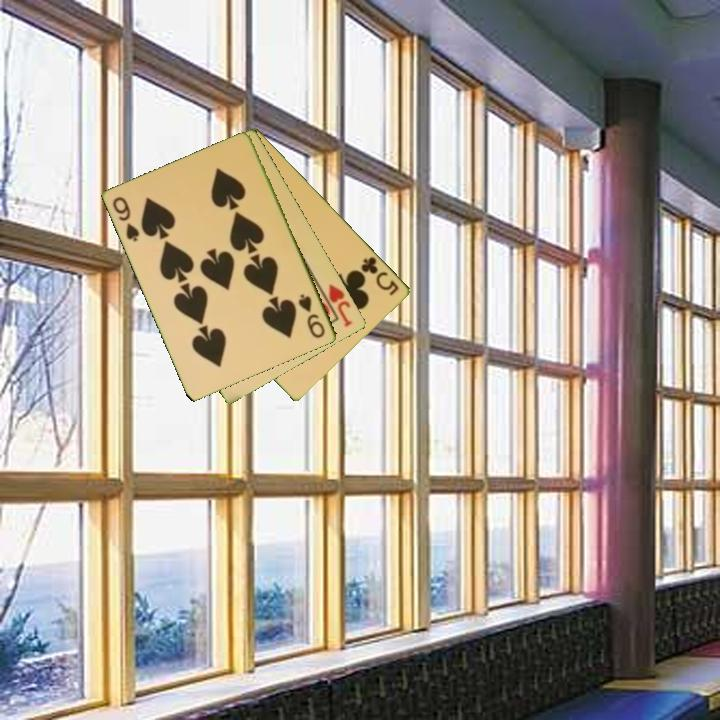5c: (358, 253, 402, 299)
9s: (109, 193, 143, 245), (295, 290, 328, 341)
Jh: (325, 281, 356, 330)
